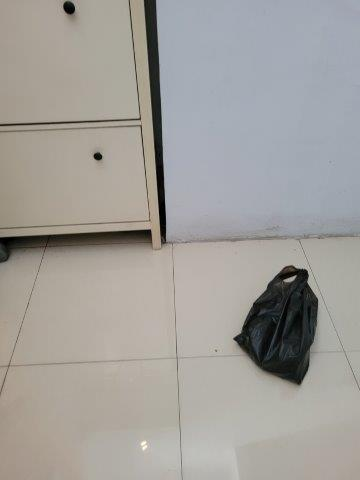plastik: (233, 265, 320, 385)
